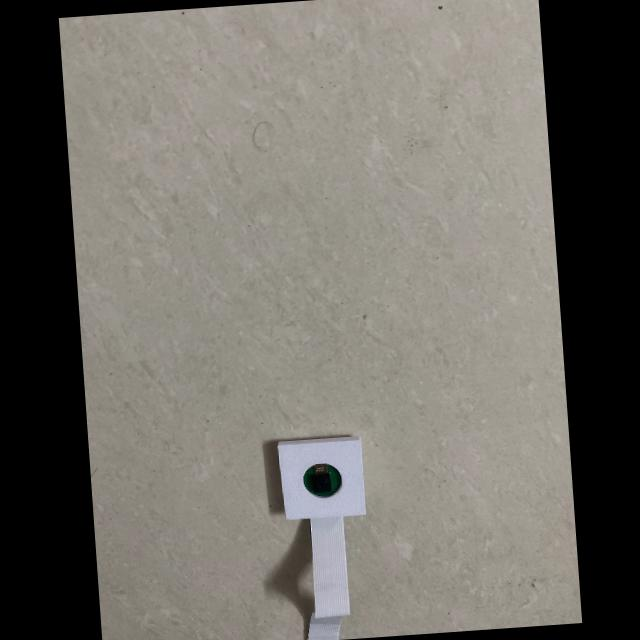RASPBERY PI CAM ENCLOSURE: (276, 434, 366, 520)
